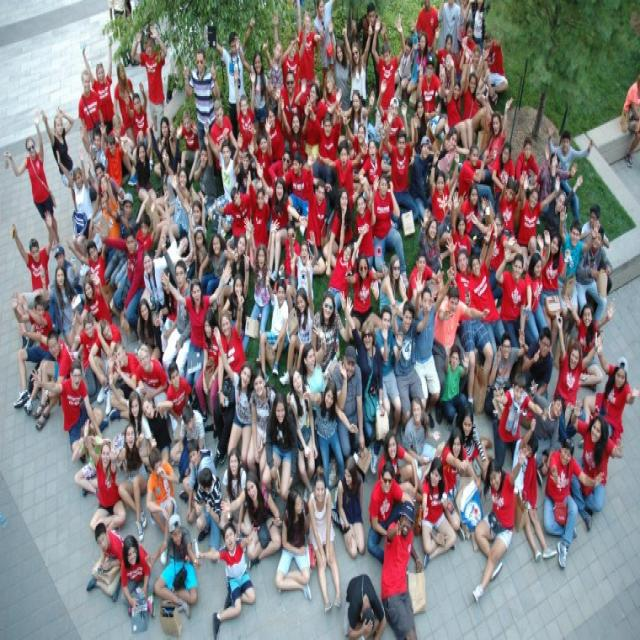body: (158, 264, 234, 412), (444, 221, 494, 425), (470, 443, 530, 605), (542, 436, 606, 573), (431, 285, 491, 427), (1, 107, 59, 253), (29, 355, 104, 463), (342, 293, 386, 477), (577, 335, 639, 460), (194, 518, 256, 639), (509, 414, 558, 564), (569, 401, 623, 532), (138, 188, 195, 312), (414, 264, 456, 431), (552, 308, 604, 439), (210, 286, 247, 469), (254, 160, 308, 285), (301, 376, 358, 494), (413, 0, 488, 88), (86, 108, 130, 255), (212, 324, 255, 474), (144, 511, 202, 620), (389, 294, 430, 442), (557, 201, 601, 338), (380, 500, 423, 640), (493, 370, 551, 472), (242, 213, 281, 363), (10, 290, 55, 418), (562, 292, 616, 394), (468, 223, 507, 361), (206, 17, 248, 145), (306, 470, 342, 616), (366, 460, 415, 567), (458, 94, 516, 184), (438, 425, 482, 543), (278, 252, 316, 388), (483, 326, 529, 437), (55, 145, 93, 277), (326, 202, 370, 316), (369, 170, 410, 292), (159, 232, 191, 387), (38, 104, 81, 216), (82, 431, 127, 538), (546, 125, 594, 225), (130, 23, 168, 148), (274, 484, 313, 604), (214, 168, 254, 282), (143, 445, 180, 568), (419, 454, 458, 570), (206, 122, 244, 241), (67, 270, 114, 366), (31, 328, 73, 434), (372, 302, 403, 443), (261, 388, 299, 503), (538, 229, 571, 361), (340, 18, 374, 145), (382, 122, 421, 232), (182, 47, 222, 154), (286, 322, 330, 419), (232, 32, 270, 143), (288, 367, 318, 506), (575, 224, 615, 328), (120, 119, 158, 227), (310, 288, 354, 381), (218, 233, 252, 352), (116, 422, 149, 544), (242, 469, 283, 567), (331, 343, 365, 460), (9, 207, 56, 291), (494, 241, 530, 349), (455, 399, 495, 495), (344, 252, 386, 342), (87, 316, 124, 418), (258, 270, 290, 387), (409, 133, 450, 224), (84, 520, 127, 605), (152, 166, 190, 262), (117, 225, 147, 346), (529, 376, 567, 471), (170, 401, 206, 501), (515, 174, 560, 253), (403, 395, 442, 486), (245, 366, 276, 480), (334, 454, 367, 561), (122, 79, 154, 189), (378, 428, 424, 504), (533, 145, 579, 219), (82, 34, 115, 136), (338, 568, 386, 638), (261, 32, 301, 116), (371, 14, 406, 110), (113, 212, 155, 292), (377, 76, 410, 177), (47, 262, 84, 351), (354, 0, 386, 102), (182, 436, 218, 526), (316, 137, 370, 197), (445, 53, 475, 160), (216, 445, 248, 544), (102, 192, 134, 290), (106, 338, 142, 425), (210, 98, 244, 190), (168, 174, 208, 251), (428, 148, 460, 244), (194, 308, 219, 430), (439, 342, 472, 434), (523, 252, 550, 364), (408, 94, 443, 180), (457, 142, 498, 215), (417, 193, 453, 276), (304, 152, 328, 276), (193, 465, 223, 564), (296, 0, 326, 99), (120, 532, 155, 616), (272, 9, 308, 90), (322, 186, 354, 277), (70, 312, 105, 395), (352, 172, 380, 274), (64, 228, 110, 290), (430, 91, 459, 186), (390, 14, 421, 100), (136, 341, 170, 419), (326, 17, 354, 111), (127, 388, 158, 472), (305, 95, 343, 163), (247, 170, 272, 272), (521, 326, 554, 402), (406, 247, 445, 311), (357, 119, 391, 192), (288, 228, 319, 308), (72, 419, 103, 498), (140, 392, 174, 463), (107, 0, 143, 67), (278, 91, 311, 163), (479, 30, 510, 106), (197, 232, 233, 297), (232, 64, 258, 154), (313, 0, 338, 93), (337, 87, 376, 145), (193, 131, 216, 229), (617, 67, 639, 169), (378, 253, 409, 325), (78, 67, 106, 142), (175, 109, 201, 188), (498, 169, 526, 242), (156, 267, 179, 355), (490, 140, 516, 217), (114, 61, 136, 151), (280, 68, 302, 158), (153, 142, 178, 221), (246, 116, 274, 186), (393, 21, 420, 93), (414, 55, 446, 114), (406, 30, 429, 111), (340, 111, 369, 175), (410, 95, 437, 162), (449, 189, 472, 267), (165, 360, 192, 420), (47, 245, 78, 297), (544, 172, 568, 236), (317, 67, 342, 128), (580, 203, 611, 250), (80, 125, 109, 175), (300, 81, 322, 146), (263, 101, 285, 163), (514, 136, 539, 188), (459, 183, 480, 238), (188, 197, 208, 254), (266, 148, 295, 186), (158, 114, 178, 156), (236, 149, 250, 192), (194, 227, 209, 265), (468, 47, 483, 75)
